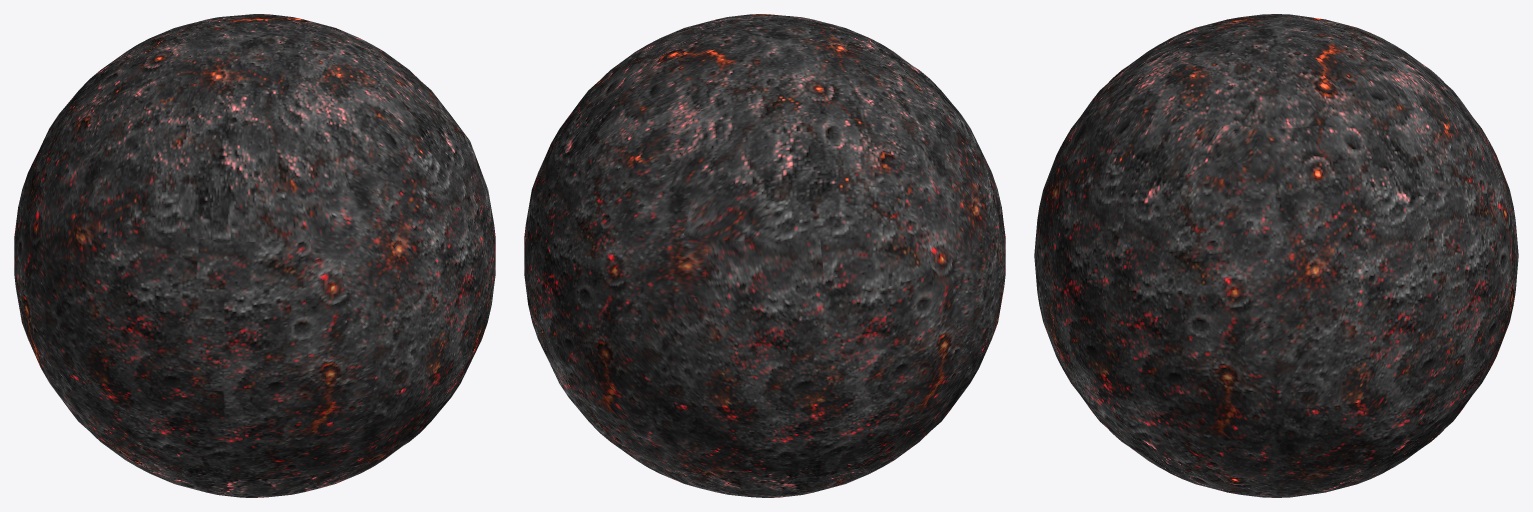
The model's file is planet_011.glb.
3 views of the same model, side by side, from view 1: azimuth 30°, elevation 25°; view 2: azimuth 150°, elevation 25°; view 3: azimuth 270°, elevation 25° (orthographic).
Visible parts, largest first — view 1: Mesh_0.002; view 2: Mesh_0.002; view 3: Mesh_0.002.
Part boxes in pixels (<box>): Mesh_0.002: <box>14,14,495,497</box>; Mesh_0.002: <box>524,14,1005,497</box>; Mesh_0.002: <box>1034,14,1518,497</box>.
Size of the model in its own units: 1.91 by 1.9 by 1.91.
Materials: 1 (1 with a texture image).
